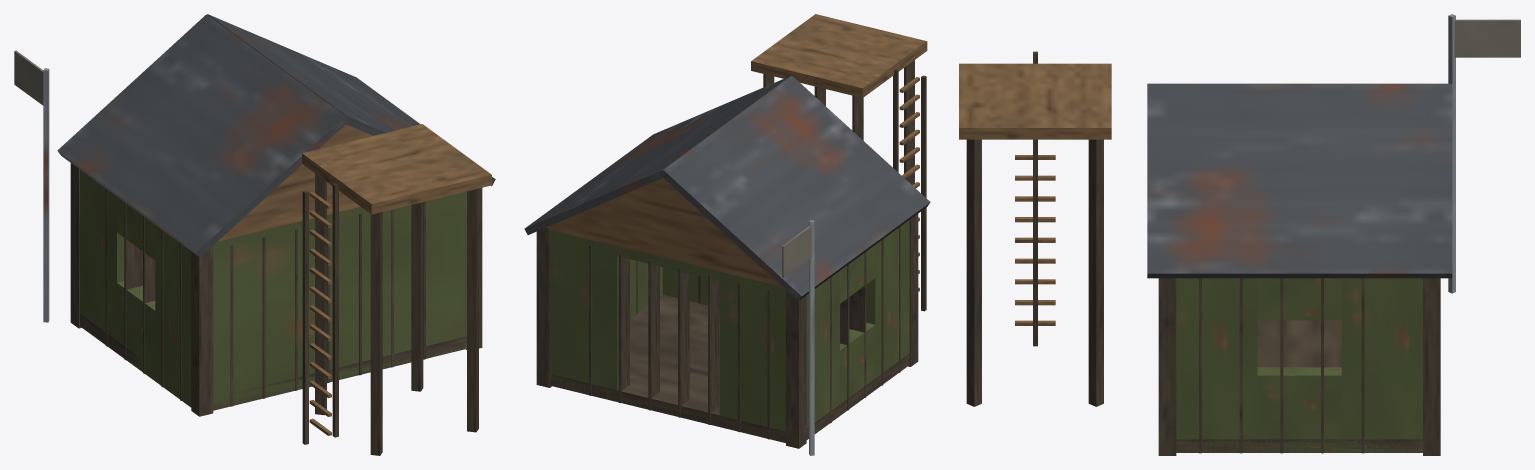
Rendered from SM_POI_RangerStation_LOD1.fbx.
The picture shows the model from 3 angles, left to right: view 1: azimuth 30°, elevation 25°; view 2: azimuth 150°, elevation 25°; view 3: azimuth 270°, elevation 25°; orthographic projection. The views are drawn at different scales.
Parts seen in each view (by area): view 1: SM_POI_RangerStation_LOD1; view 2: SM_POI_RangerStation_LOD1; view 3: SM_POI_RangerStation_LOD1.
Part boxes in pixels (bbox=[...]): SM_POI_RangerStation_LOD1: bbox=[14, 14, 495, 455]; SM_POI_RangerStation_LOD1: bbox=[524, 14, 930, 455]; SM_POI_RangerStation_LOD1: bbox=[959, 14, 1520, 455].
Size of the model in its own units: 15.61 by 12.87 by 22.1.
1 material, 1 textured.
